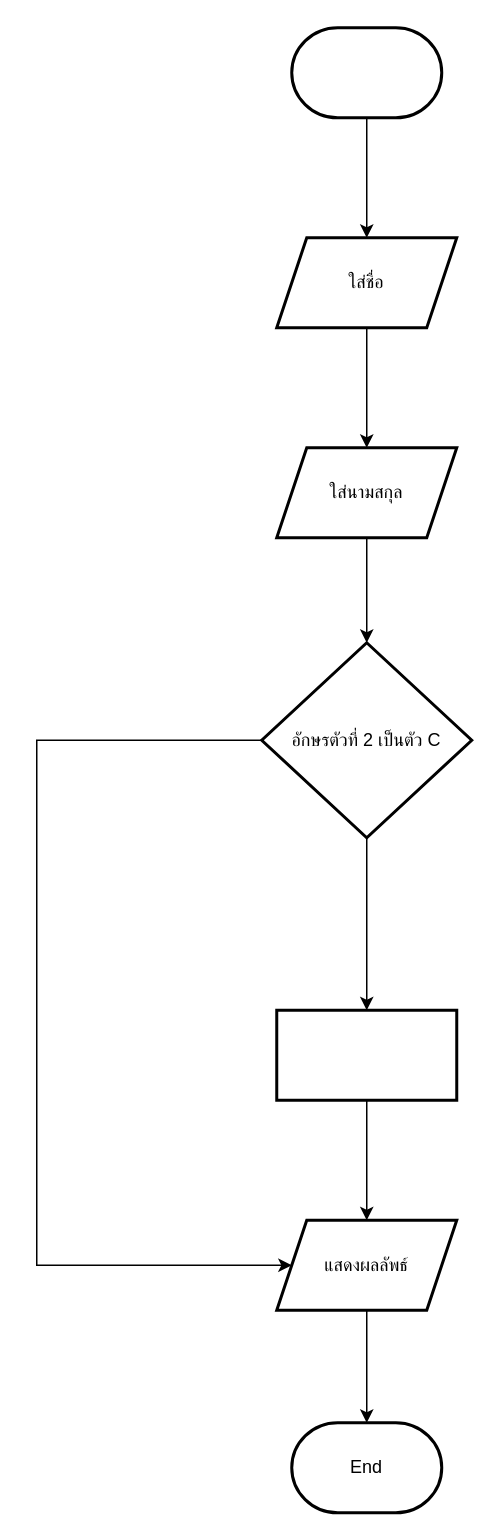
Some shapes in this 500 by 1539 pixel diagram are drawn without their labels. The shapes that lost their labels are listed below. From the top down, each one's box as (x1, y1, x2, y2) in pixels, then its label:
(290, 26, 442, 118): start
(274, 1008, 458, 1101): เปลี่ยน C เป็น D
